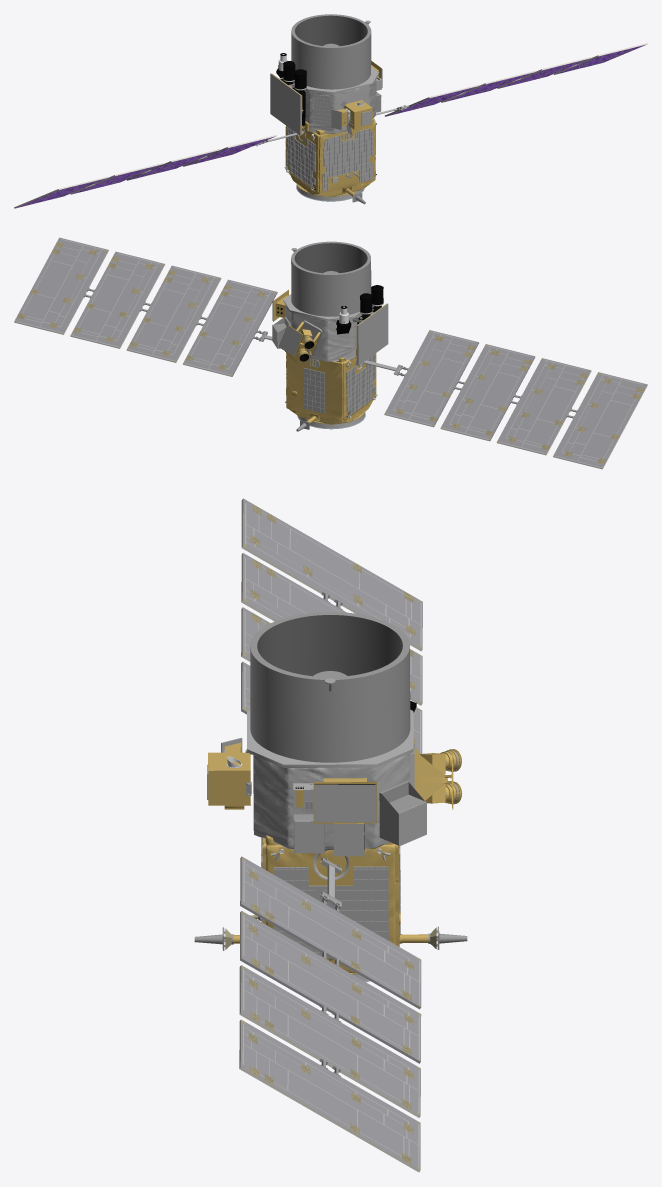
The model's file is CloudAerosolLidarandInfraredPathfinderSatelliteCALIPSO.glb.
3 views of the same model, one above another, from view 1: azimuth 30°, elevation 25°; view 2: azimuth 150°, elevation 25°; view 3: azimuth 270°, elevation 25° (orthographic). The views are drawn at different scales.
Parts seen in each view (by area): view 1: Mesh _node_5, Mesh _node_19, Mesh _node_7, Mesh _node_16, Mesh _node_1, Mesh _node_18, Mesh, Mesh _node_3, Mesh _node_17, Mesh _node_9, Mesh _node_10, Mesh _node_13 (+5 smaller); view 2: Mesh _node_16, Mesh _node_7, Mesh _node_5, Mesh _node_19, Mesh _node_0, Mesh _node_3, Mesh _node_18, Mesh _node, Mesh _node_1, Mesh _node_4, Mesh _node_17, Mesh _node_14 (+1 smaller); view 3: Mesh _node_16, Mesh _node_7, Mesh _node_19, Mesh _node_18, Mesh _node_1, Mesh _node_5, Mesh _node_4, Mesh _node_0, Mesh _node_2, Mesh _node_17, Mesh _node.
Boxes of the visible parts, x1,y1,x2,y2 form: Mesh _node_5: (270, 20, 373, 191); Mesh _node_19: (291, 14, 371, 89); Mesh _node_7: (267, 65, 397, 200); Mesh _node_16: (15, 44, 646, 208); Mesh _node_1: (285, 65, 378, 197); Mesh _node_18: (295, 15, 367, 45); Mesh: (17, 46, 642, 207); Mesh _node_3: (285, 122, 376, 193); Mesh _node_17: (14, 43, 647, 208); Mesh _node_9: (19, 45, 645, 206); Mesh _node_10: (27, 48, 631, 204); Mesh _node_13: (22, 46, 640, 205); Mesh _node_16: (14, 237, 647, 468); Mesh _node_7: (16, 239, 642, 467); Mesh _node_5: (272, 248, 388, 415); Mesh _node_19: (291, 241, 371, 316); Mesh _node_0: (17, 242, 644, 463); Mesh _node_3: (286, 352, 376, 421); Mesh _node_18: (294, 243, 367, 273); Mesh _node: (14, 242, 643, 468); Mesh _node_1: (275, 295, 376, 424); Mesh _node_4: (83, 249, 577, 431); Mesh _node_17: (14, 250, 647, 469); Mesh _node_14: (272, 285, 383, 417); Mesh _node_16: (240, 498, 422, 1170); Mesh _node_7: (242, 503, 423, 1167); Mesh _node_19: (250, 612, 410, 762); Mesh _node_18: (257, 615, 402, 676); Mesh _node_1: (208, 742, 400, 974); Mesh _node_5: (207, 678, 426, 958); Mesh _node_4: (194, 592, 467, 1076); Mesh _node_0: (248, 504, 415, 1164); Mesh _node_2: (233, 748, 461, 943); Mesh _node_17: (239, 498, 422, 1172); Mesh _node: (225, 505, 459, 1169).
Bounding box in the file's own units: 228 × 57.86 × 45.63.
